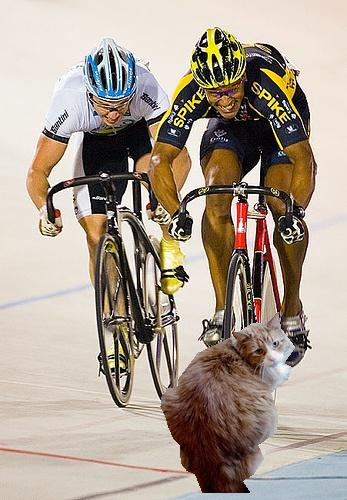tampered: (161, 313, 295, 493)
